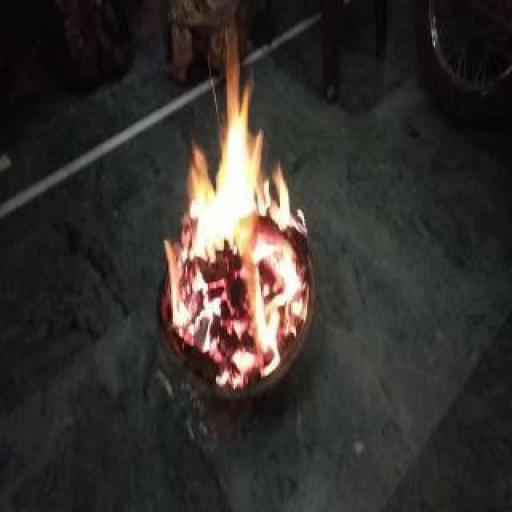smoke: (160, 37, 315, 389)
